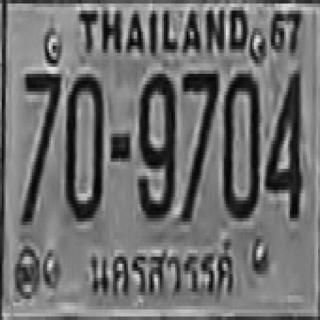N00: (64, 70, 102, 218), (222, 69, 258, 216)
N04: (263, 67, 301, 215)
N07: (21, 70, 60, 222), (181, 67, 216, 218)
N09: (136, 69, 174, 216)
P31: (87, 238, 239, 308)
